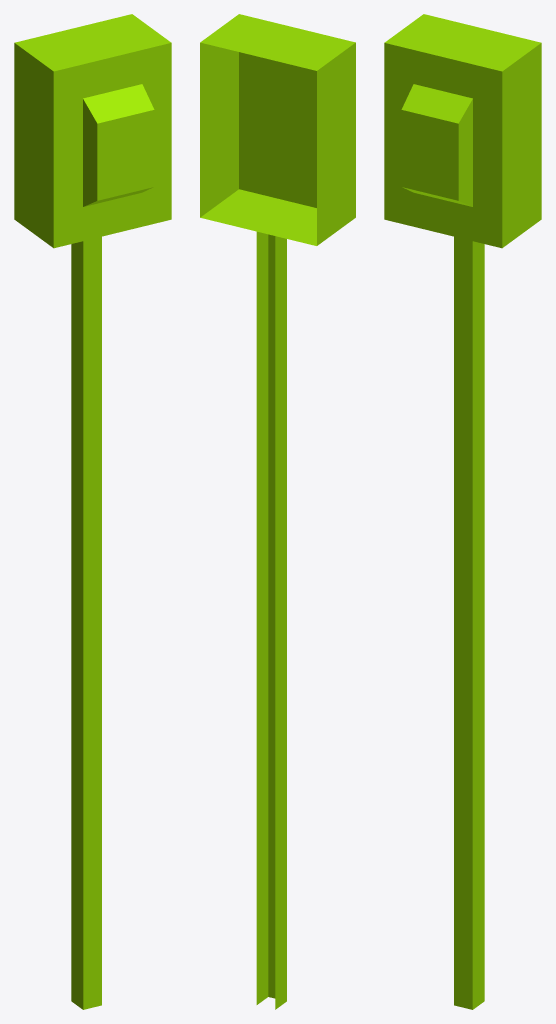
The model's file is Asset_Garage1_7.fbx.
3 renders of one model, left to right at view 1: azimuth 30°, elevation 25°; view 2: azimuth 150°, elevation 25°; view 3: azimuth 330°, elevation 25°, orthographic.
Parts seen in each view (by area): view 1: Asset_Garage1_7; view 2: Asset_Garage1_7; view 3: Asset_Garage1_7.
Boxes of the visible parts, x1,y1,x2,y2 form: Asset_Garage1_7: (14, 14, 171, 1009); Asset_Garage1_7: (200, 14, 355, 1009); Asset_Garage1_7: (384, 14, 541, 1009).
Size of the model in its own units: 8.87 by 69.45 by 6.86.
